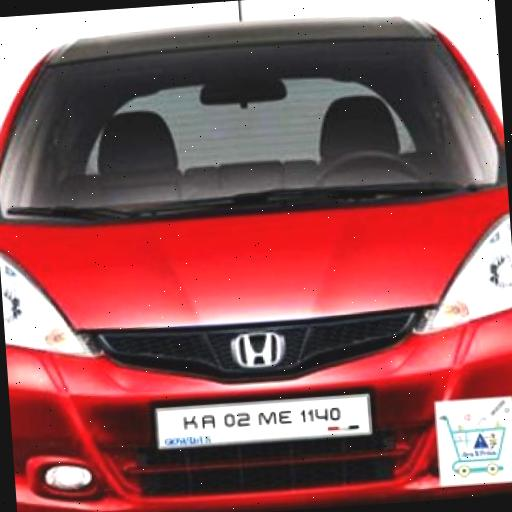number plate: (155, 390, 378, 454)
